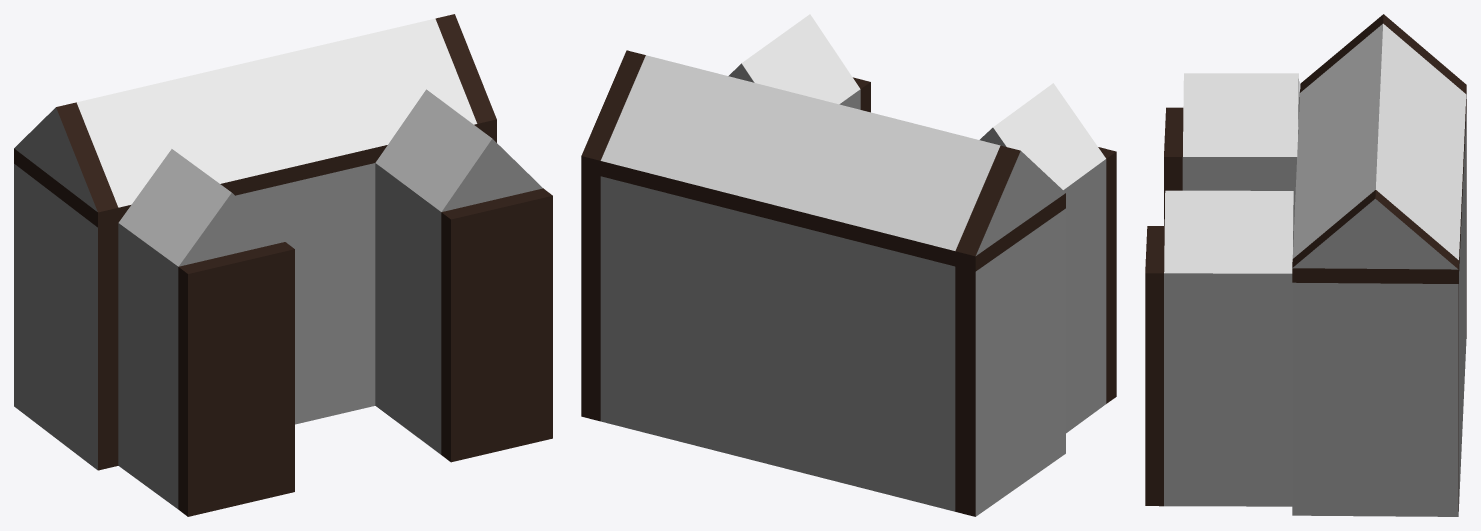
Rendered from SM_TileVillageB.fbx.
3 views of the same model, side by side, from view 1: azimuth 30°, elevation 25°; view 2: azimuth 150°, elevation 25°; view 3: azimuth 270°, elevation 25° (orthographic). The views are drawn at different scales.
Parts seen in each view (by area): view 1: TileVillageB; view 2: TileVillageB; view 3: TileVillageB.
Part boxes in pixels (box(x1,y1,x2,y2)): TileVillageB: box(14, 14, 552, 516); TileVillageB: box(581, 14, 1116, 516); TileVillageB: box(1145, 14, 1466, 516).
Size of the model in its own units: 166 by 132 by 121.
